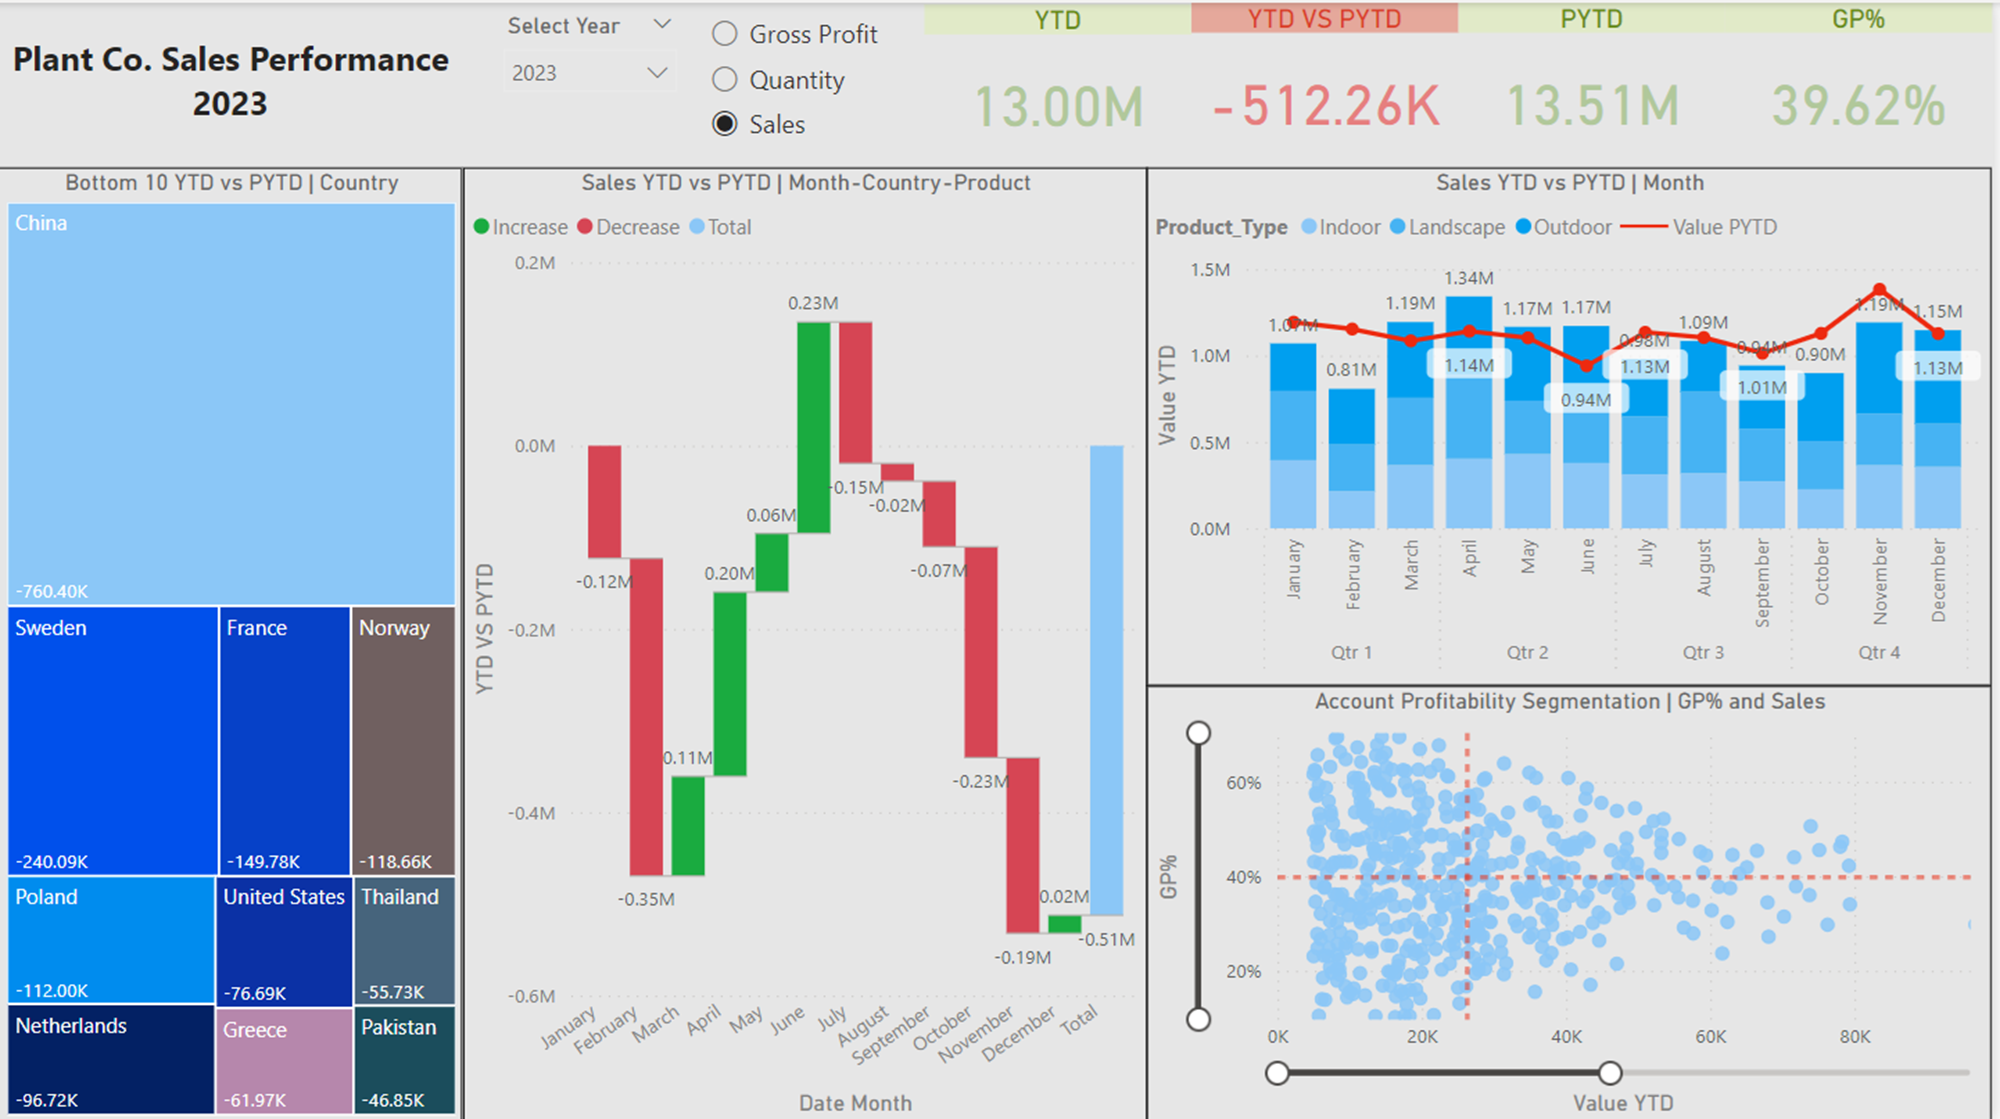

This screenshot's page, from the dashboard's own definition file:
{"tool":"powerbi","page":{"name":"Plant Co. Performance Report","canvas":[1280,720],"ordinal":0},"visuals":[{"type":"card","title":"YTD","fields":{"Values":["_Measures.YTD_Sales"]},"box":[594.6,1.2,171.3,104.9],"z":0},{"type":"card","title":"PYTD","fields":{"Values":["_Measures.PYTD_Sales"]},"box":[937.1,0,171.3,106.1],"z":1000},{"type":"card","title":"YTD VS PYTD","fields":{"Values":["_Measures.YTD VS PYTD"]},"box":[765.8,0,171.3,106.1],"z":2000},{"type":"slicer","fields":{"Values":["Slc_Values.Values"]},"box":[445,0,149.5,106.1],"z":4000},{"type":"slicer","fields":{"Values":["Dim_Date.Date.Variation.Date Hierarchy.Year"]},"box":[313.6,1.2,131.5,74.8],"z":5000},{"type":"treemap","title":"Bottom 10 YTD vs PYTD | Country","fields":{"Group":["Dim_Account.country"],"Values":["_Measures.YTD VS PYTD"]},"box":[0,106.1,297.9,612.7],"z":6000},{"type":"waterfallChart","fields":{"Y":["_Measures.YTD VS PYTD"],"Category":["Dim_Date.Date.Variation.Date Hierarchy.Month","Dim_Account.country","Dim_Product.Product_Type","Dim_Product.Product_Name"]},"box":[297.9,106.1,439,612.7],"z":7000},{"type":"lineStackedColumnComboChart","fields":{"Y":["_Measures.S_YTD"],"Category":["Dim_Date.Date.Variation.Date Hierarchy.Quarter","Dim_Date.Date.Variation.Date Hierarchy.Month"],"Y2":["_Measures.S_PYTD"],"Series":["Dim_Product.Product_Type"]},"box":[736.9,106.1,542.7,332.9],"z":8000},{"type":"card","title":"GP%","fields":{"Values":["_Measures.GP%"]},"box":[1108.3,0,171.3,106.1],"z":8001},{"type":"scatterChart","fields":{"Y":["_Measures.GP%"],"X":["_Measures.S_YTD"],"Category":["Dim_Account.Account"]},"box":[736.9,439,542.7,279.8],"z":8002},{"type":"clusteredColumnChart","box":[0,20.5,297.9,66.3],"z":8003}]}

Visuals, with their boxes in screenshot pixels (x1, y1, x2, y2), scaled from the page's 1280x720 canvas onto the 2000x1119 screenshot:
"YTD" card: 929, 2, 1197, 165
"PYTD" card: 1464, 0, 1732, 165
"YTD VS PYTD" card: 1197, 0, 1464, 165
slicer - Slc_Values.Values: 695, 0, 929, 165
slicer - Dim_Date.Date.Variation.Date Hierarchy.Year: 490, 2, 695, 118
"Bottom 10 YTD vs PYTD | Country" treemap: 0, 165, 465, 1117
waterfallChart - _Measures.YTD VS PYTD x Dim_Date.Date.Variation.Date Hierarchy.Month: 465, 165, 1151, 1117
lineStackedColumnComboChart - _Measures.S_YTD x Dim_Date.Date.Variation.Date Hierarchy.Quarter: 1151, 165, 1999, 682
"GP%" card: 1732, 0, 1999, 165
scatterChart - _Measures.GP% x _Measures.S_YTD: 1151, 682, 1999, 1117
clusteredColumnChart: 0, 32, 465, 135
